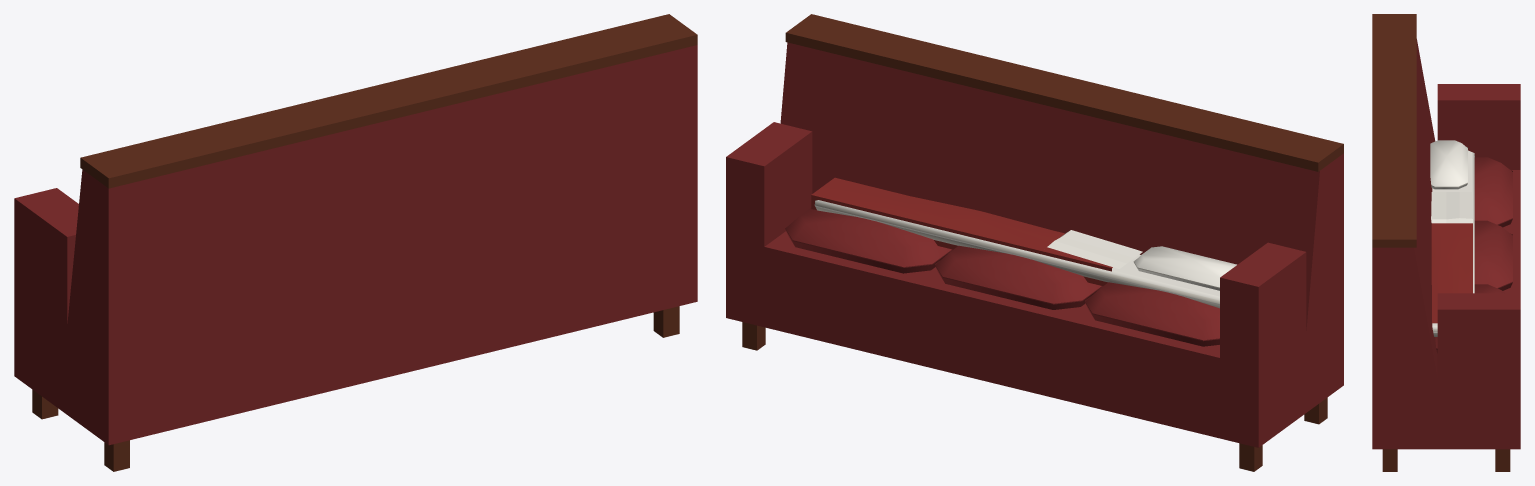
The picture shows the model from 3 angles, left to right: view 1: azimuth 30°, elevation 25°; view 2: azimuth 150°, elevation 25°; view 3: azimuth 270°, elevation 25°; orthographic projection. The views are drawn at different scales.
Parts seen in each view (by area): view 1: parametric-variant-sofa-2nd-b6d3049ae348510dffea; view 2: parametric-variant-sofa-2nd-b6d3049ae348510dffea; view 3: parametric-variant-sofa-2nd-b6d3049ae348510dffea.
Part boxes in pixels (x1,y1,x2,y2): parametric-variant-sofa-2nd-b6d3049ae348510dffea: (14,14,697,471); parametric-variant-sofa-2nd-b6d3049ae348510dffea: (726,14,1343,471); parametric-variant-sofa-2nd-b6d3049ae348510dffea: (1372,14,1520,471).
Bounding box in the file's own units: 1.8 × 0.88 × 0.5.
